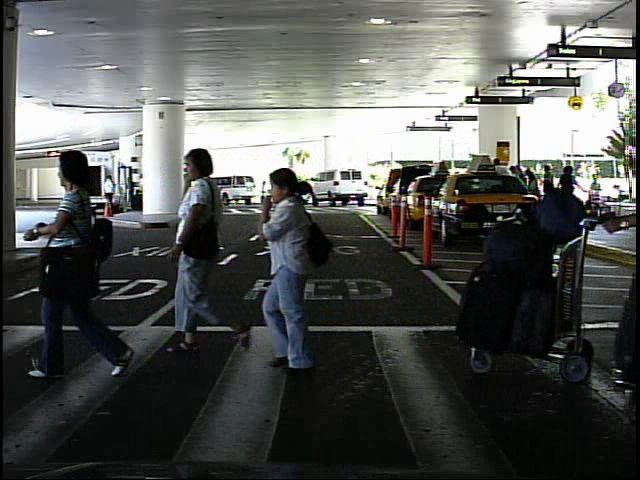person: (29, 134, 130, 382), (239, 160, 340, 381), (158, 138, 254, 360), (100, 172, 118, 222), (587, 172, 606, 218), (259, 178, 269, 204)
